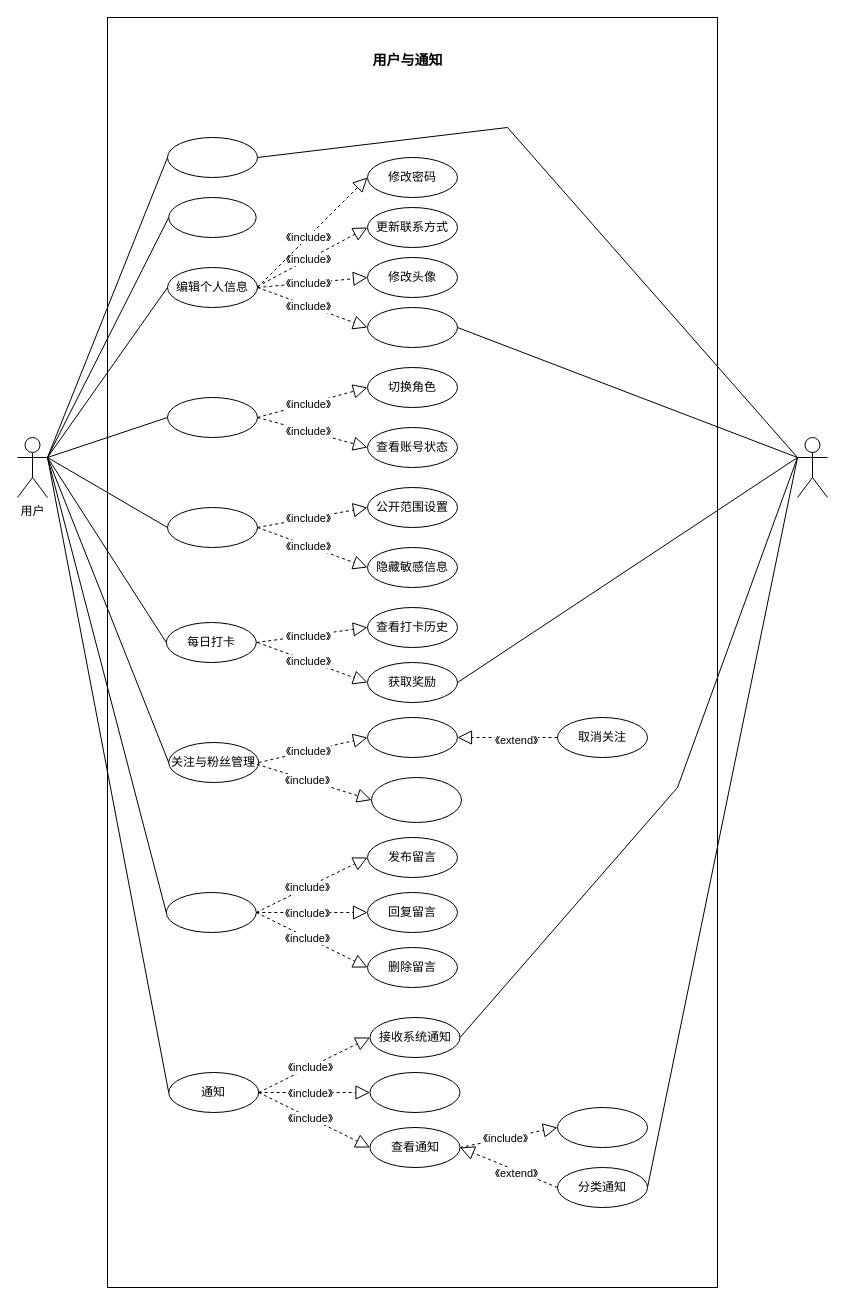
Some shapes in this 860 by 1305 pixel diagram are drawn without their labels. The shapes that lost their labels are listed below. From the top down, each one's centre as x and y in pixels, then its label:
At point (212, 157): "注册".
At point (212, 217): "登录".
At point (412, 327): "注销账号".
At point (212, 417): "查看角色".
At point (812, 467): "系统管理员".
At point (212, 527): "隐私偏好设置".
At point (412, 737): "查看关注用户".
At point (416, 799): "查看粉丝".
At point (210, 912): "留言".
At point (414, 1092): "发送个人通知".
At point (602, 1127): "查看已读状态".
